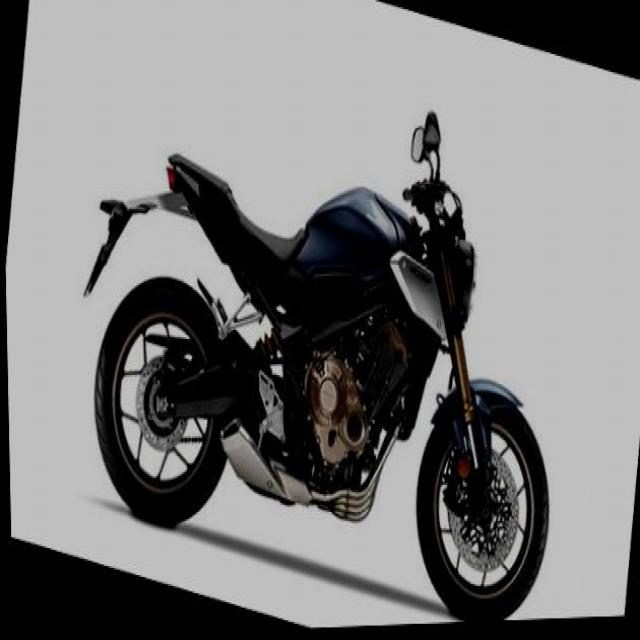CB650R: (54, 0, 591, 637)
